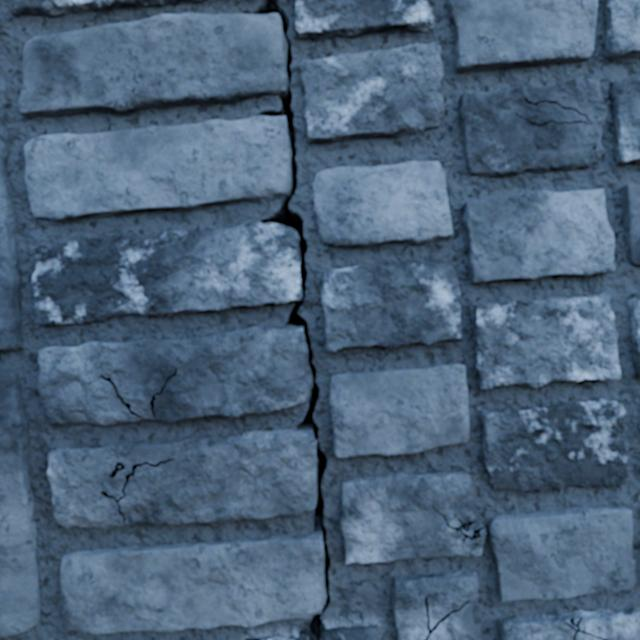broken_brick: (321, 625, 378, 639), (247, 637, 305, 639)
crack: (18, 0, 331, 639), (339, 471, 635, 601), (300, 40, 444, 142), (458, 79, 607, 177), (463, 189, 615, 284), (471, 292, 621, 388), (479, 398, 627, 492), (329, 364, 469, 457), (321, 259, 461, 351), (312, 161, 452, 246), (447, 0, 597, 72), (0, 369, 40, 637), (0, 79, 24, 350), (391, 570, 480, 639), (294, 0, 435, 38), (497, 607, 639, 639), (9, 0, 204, 16), (609, 75, 639, 164), (603, 0, 639, 59), (621, 183, 639, 265), (627, 293, 639, 376), (638, 409, 639, 432)
